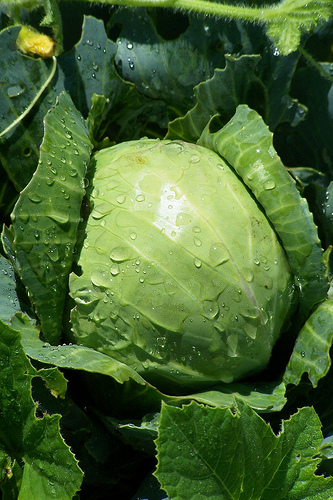cabbage: (0, 88, 331, 412)
